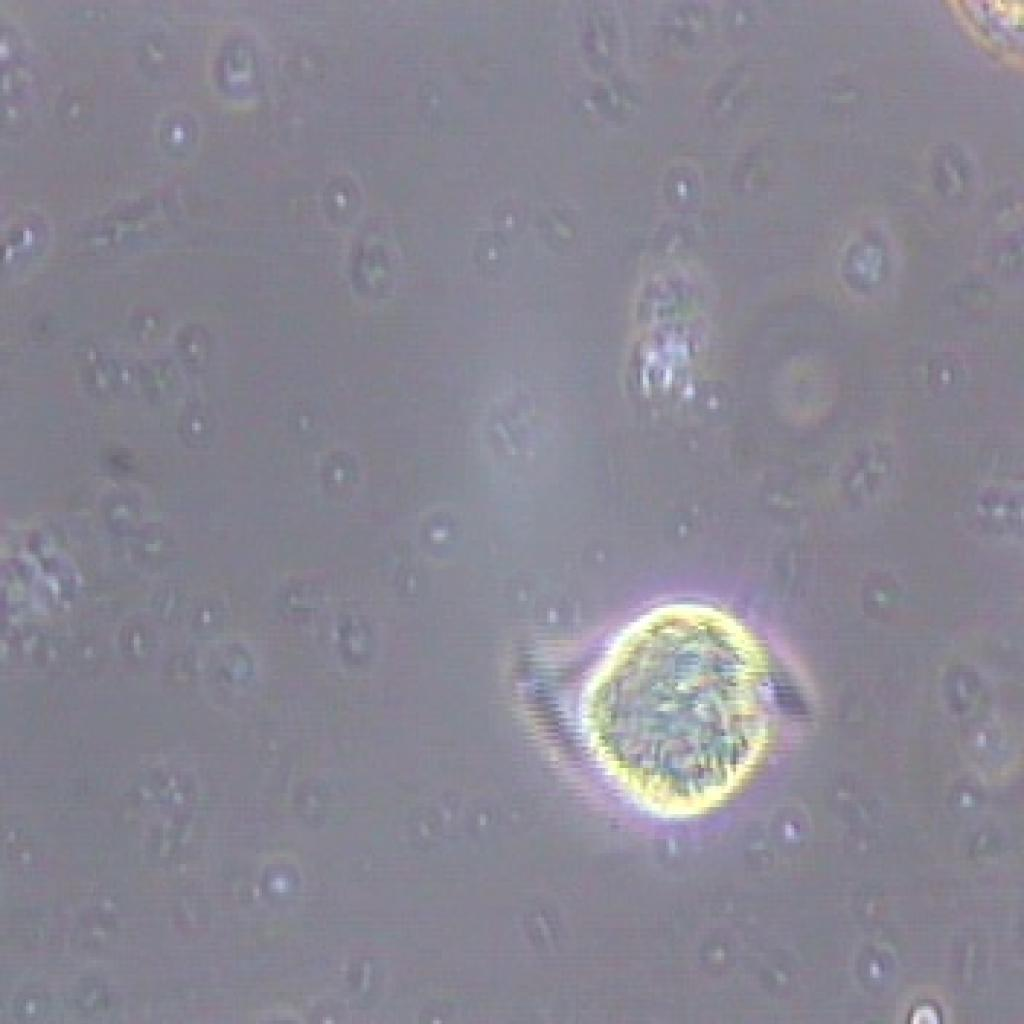Pristina: (432, 572, 825, 846)
